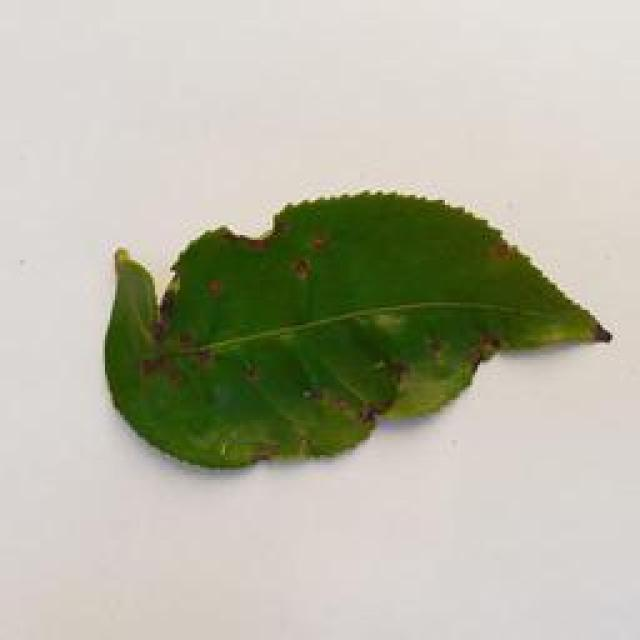Helopeltis: (85, 178, 615, 484)
